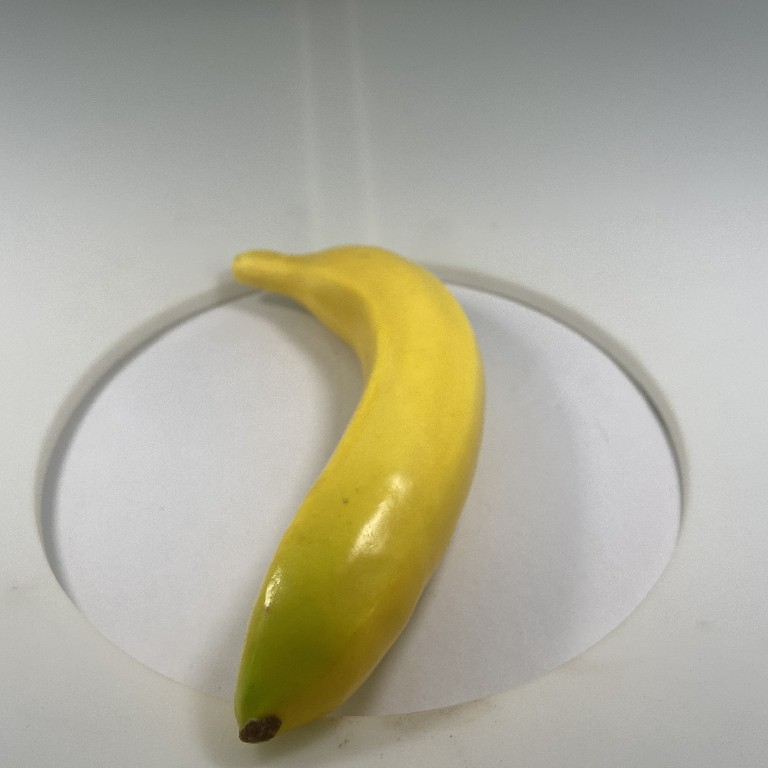fruit_banana: (220, 239, 494, 749)
